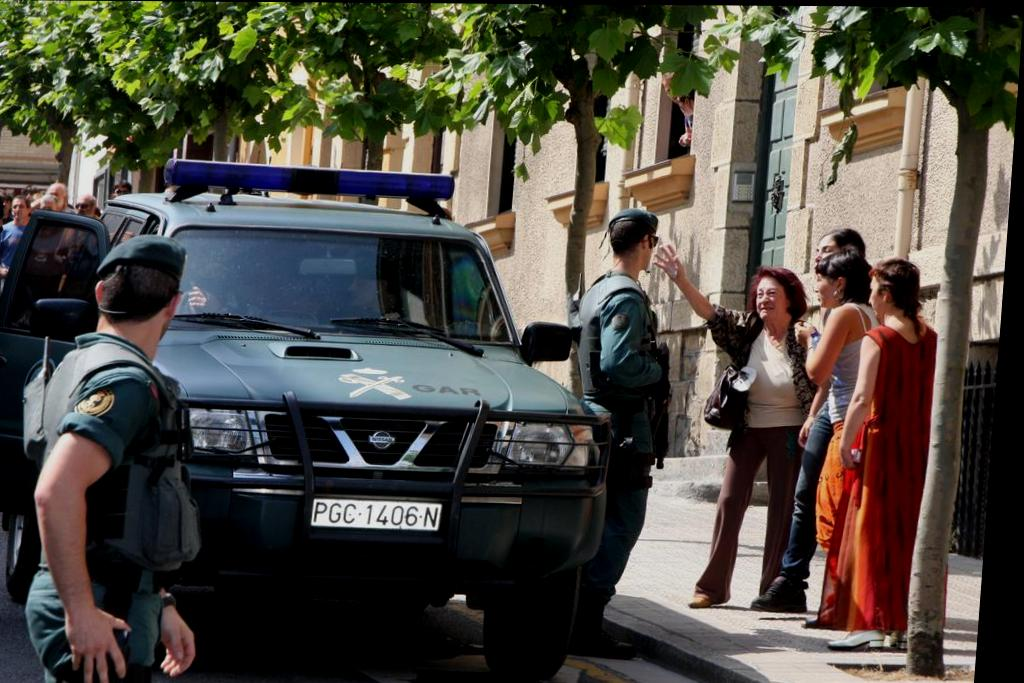License_Plate: (305, 496, 447, 538)
